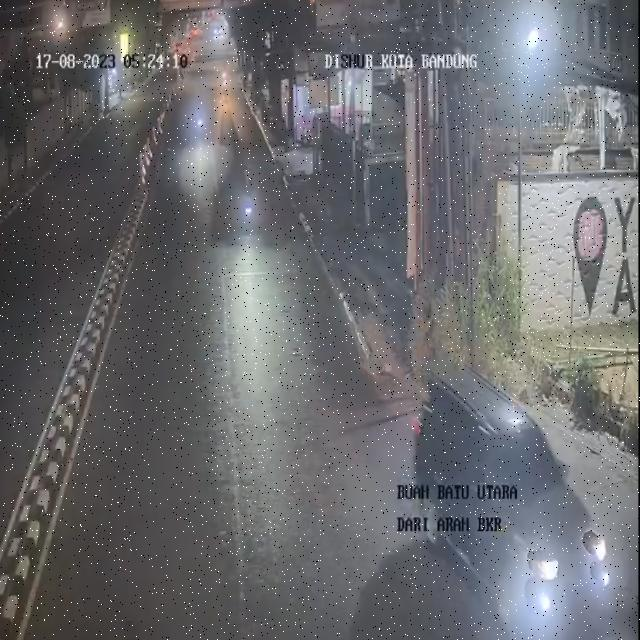cars: (392, 367, 619, 640)
motorcycle: (238, 159, 262, 242), (191, 85, 211, 149), (217, 56, 235, 110)
